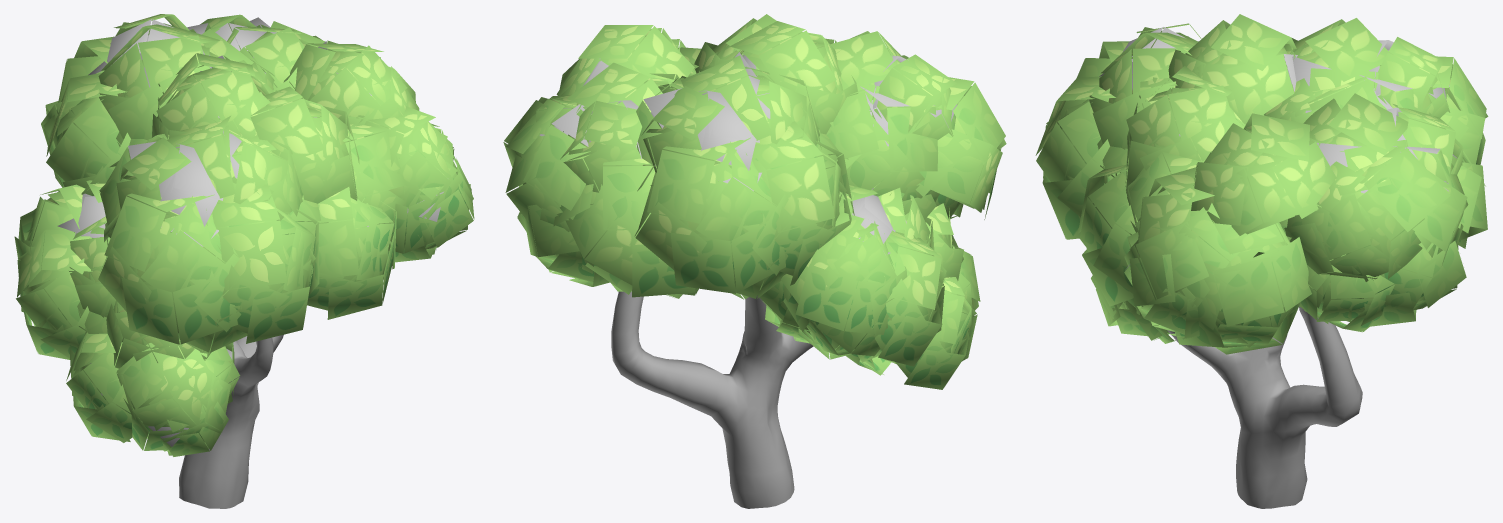
The model's file is SM_treeC.fbx.
3 views of the same model, side by side, from view 1: azimuth 30°, elevation 25°; view 2: azimuth 150°, elevation 25°; view 3: azimuth 270°, elevation 25° (orthographic). The views are drawn at different scales.
Visible parts, largest first — view 1: treeC1; view 2: treeC1; view 3: treeC1.
Part boxes in pixels (x1=…): treeC1: x1=14, y1=14, x2=474, y2=508; treeC1: x1=503, y1=14, x2=1006, y2=508; treeC1: x1=1035, y1=14, x2=1488, y2=508.
Bounding box in the file's own units: 772 × 830 × 726.
